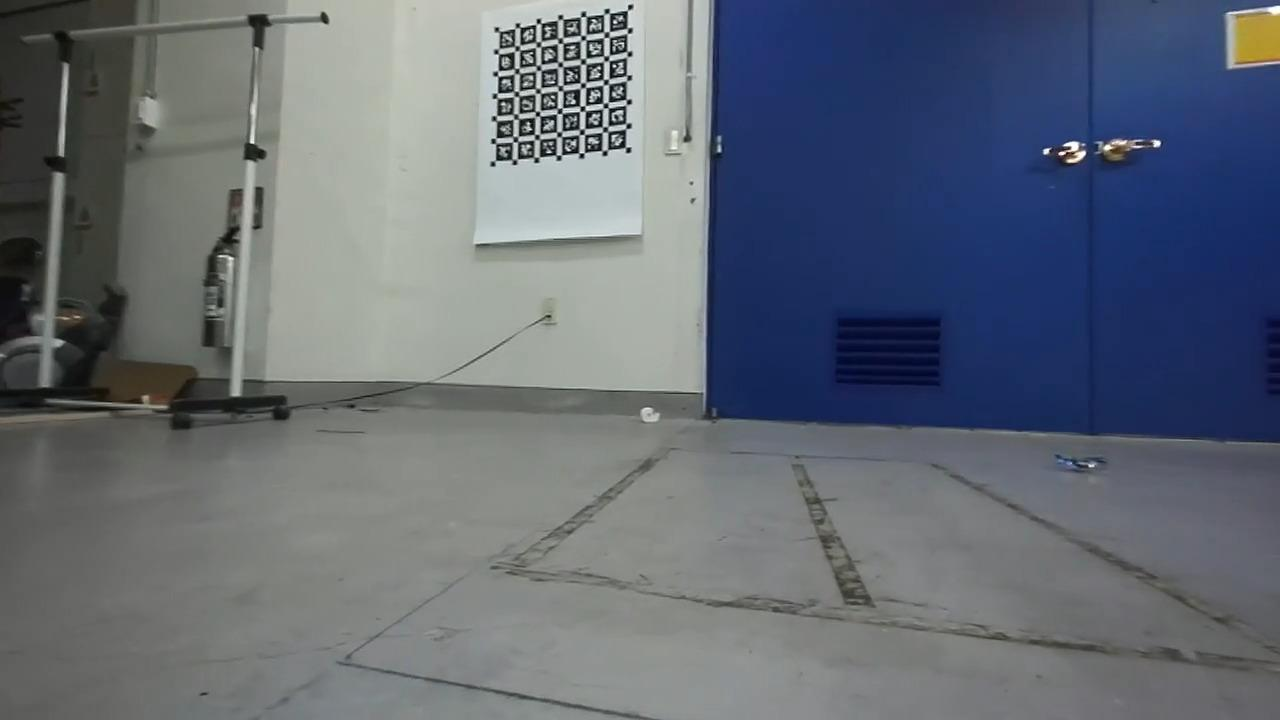crazyflie: (1049, 449, 1113, 480)
